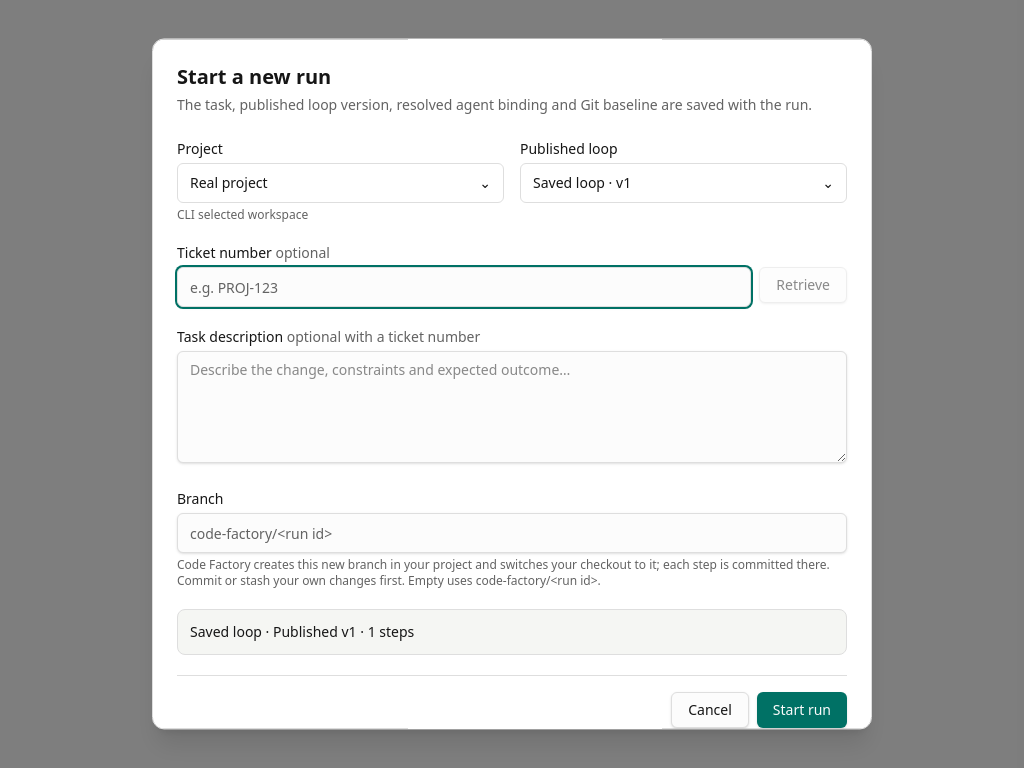
Test: new run dialog › shows retrieval failure 401
The width and height of the screenshot is (1024, 768).
Type "THI-9" into the field labelled "Ticket number optional".
click(464, 287); type("THI-9")  # box top-left (177, 267), bottom-right (751, 307)
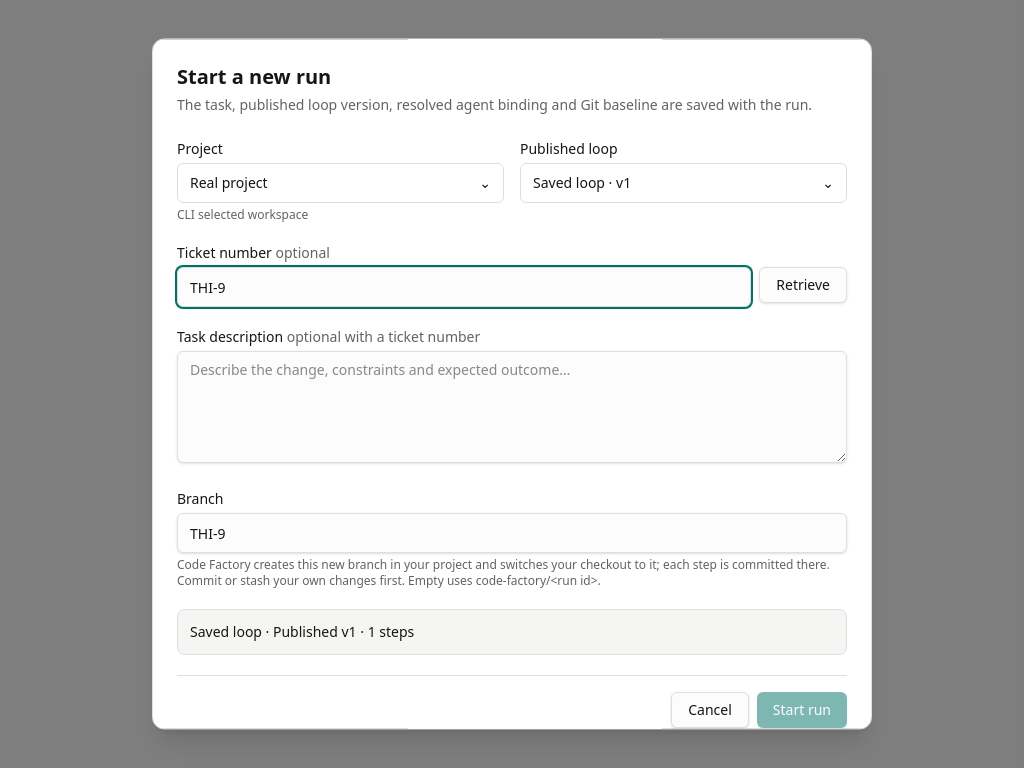
Click the button "Retrieve".
click(803, 285)  # box top-left (759, 267), bottom-right (847, 303)
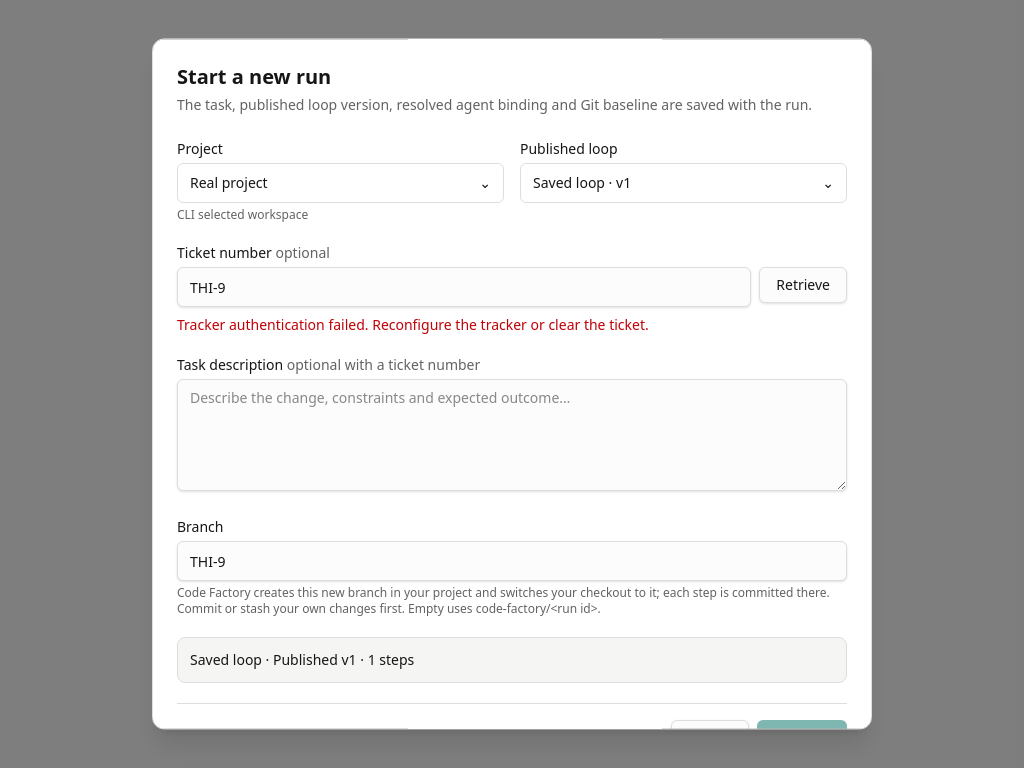
expect the text "Tracker authentication failed. Reconfigure the tracker or clear the ticket." is shown: met, box top-left (177, 315), bottom-right (649, 334)
